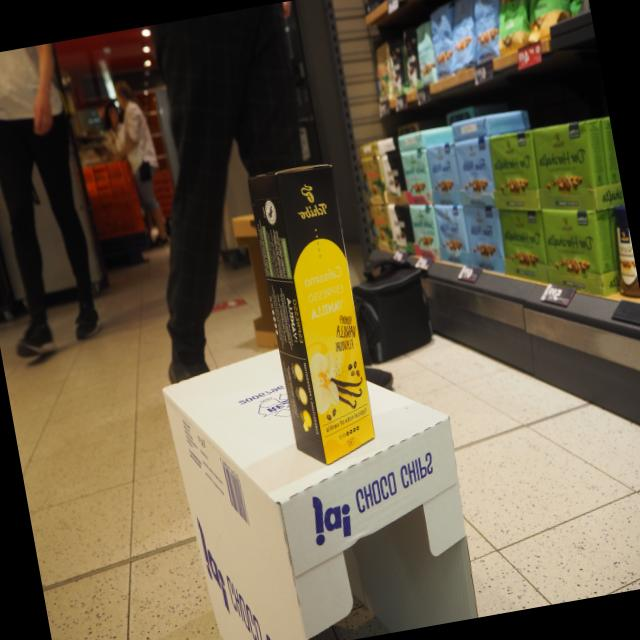Simo Es Vanilla: (269, 161, 378, 465)
